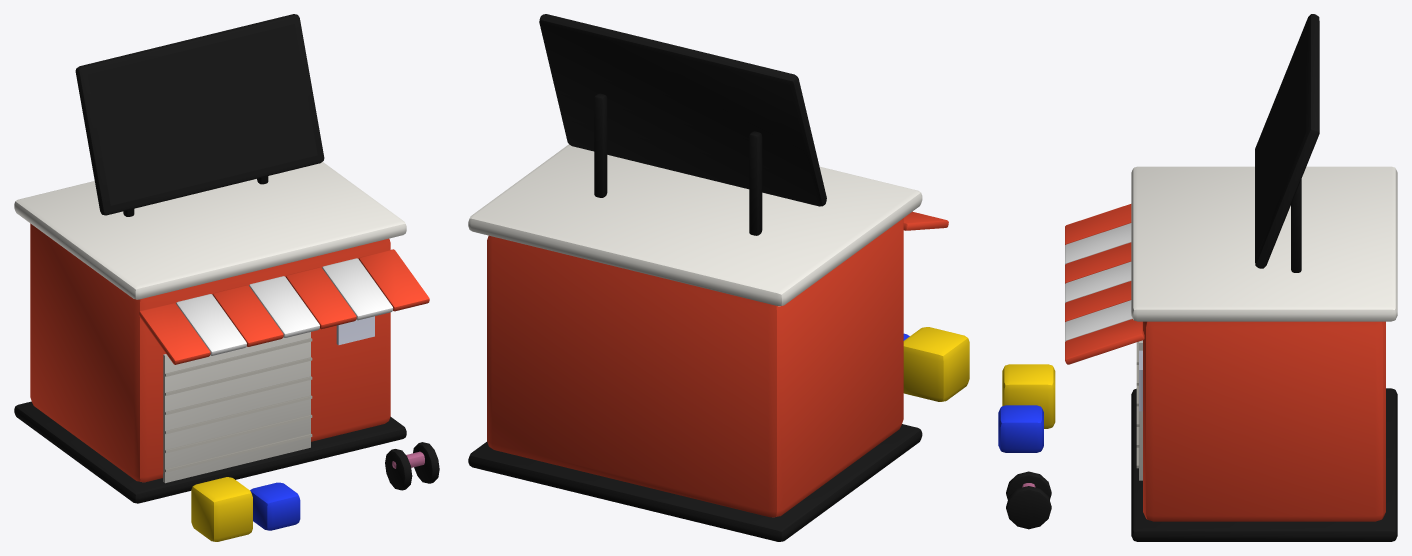
File: sewainaja.glb
3 renders of one model, left to right at view 1: azimuth 30°, elevation 25°; view 2: azimuth 150°, elevation 25°; view 3: azimuth 270°, elevation 25°, orthographic. The views are drawn at different scales.
Parts seen in each view (by area): view 1: sewainaja, screen; view 2: sewainaja; view 3: sewainaja, screen.
Part boxes in pixels (x1,y1,x2,y2): sewainaja: (14,14,439,541); screen: (88,24,317,205); sewainaja: (468,14,969,541); sewainaja: (998,14,1397,541); screen: (1256,23,1306,254).
Size of the model in its own units: 4.5 by 5.82 by 5.25.
